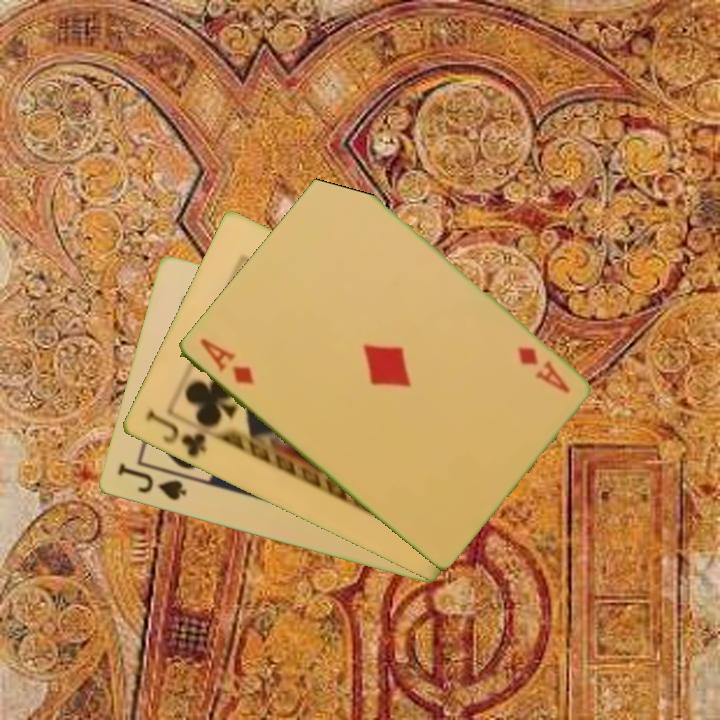Ad: (196, 334, 257, 388), (513, 343, 572, 397)
Jc: (141, 407, 209, 460)
Js: (113, 460, 189, 504)
